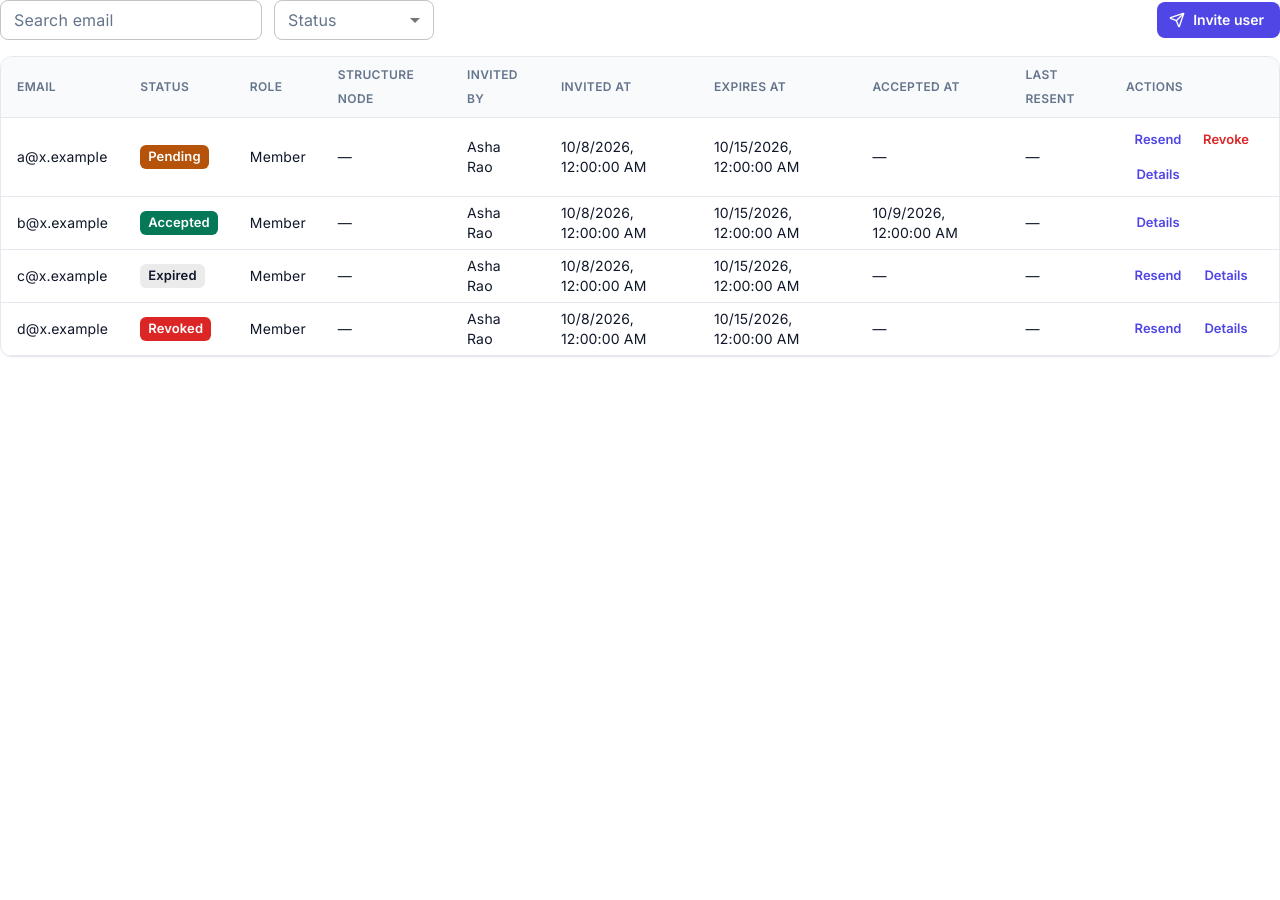
it: OrganizationInvitationsCard › sends an invitation with a role and a structure node
Click the button "Invite user" at (1219, 20), box [1157,2,1279,38]
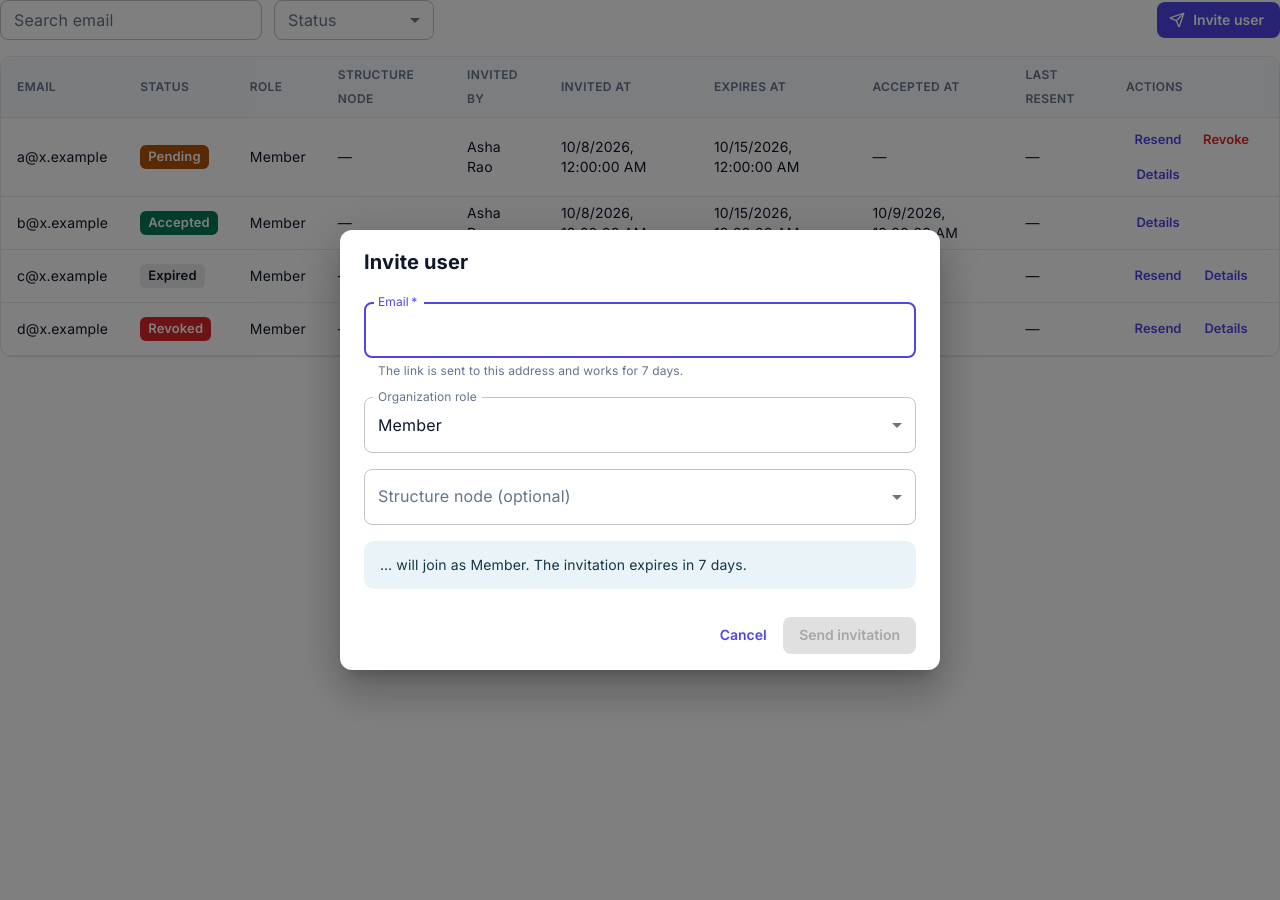
Type "new@x.example" into the field labelled "Email *" at (640, 330), box [364,302,916,358]
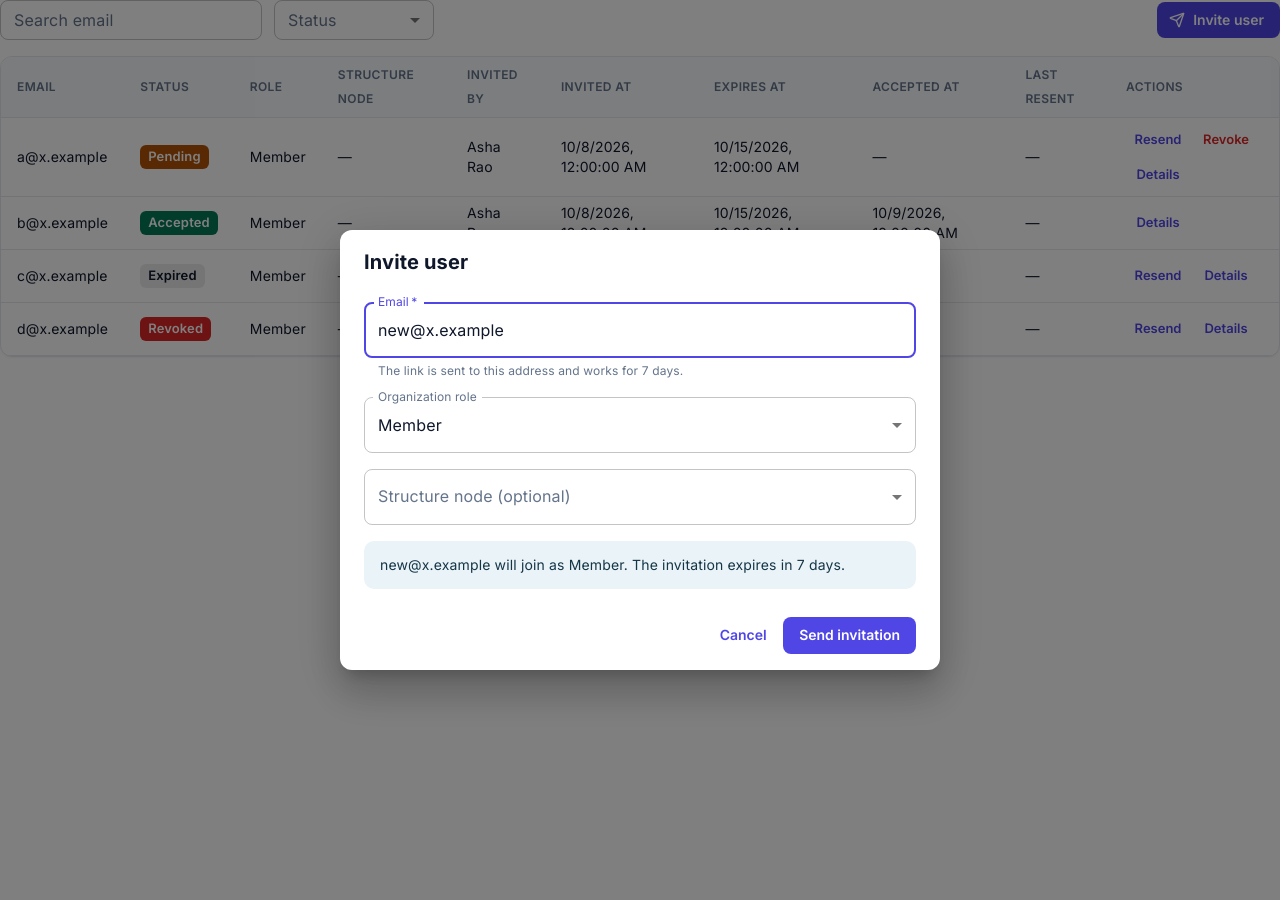
Click the dropdown named "Structure node" at (640, 497), box [364,469,916,525]
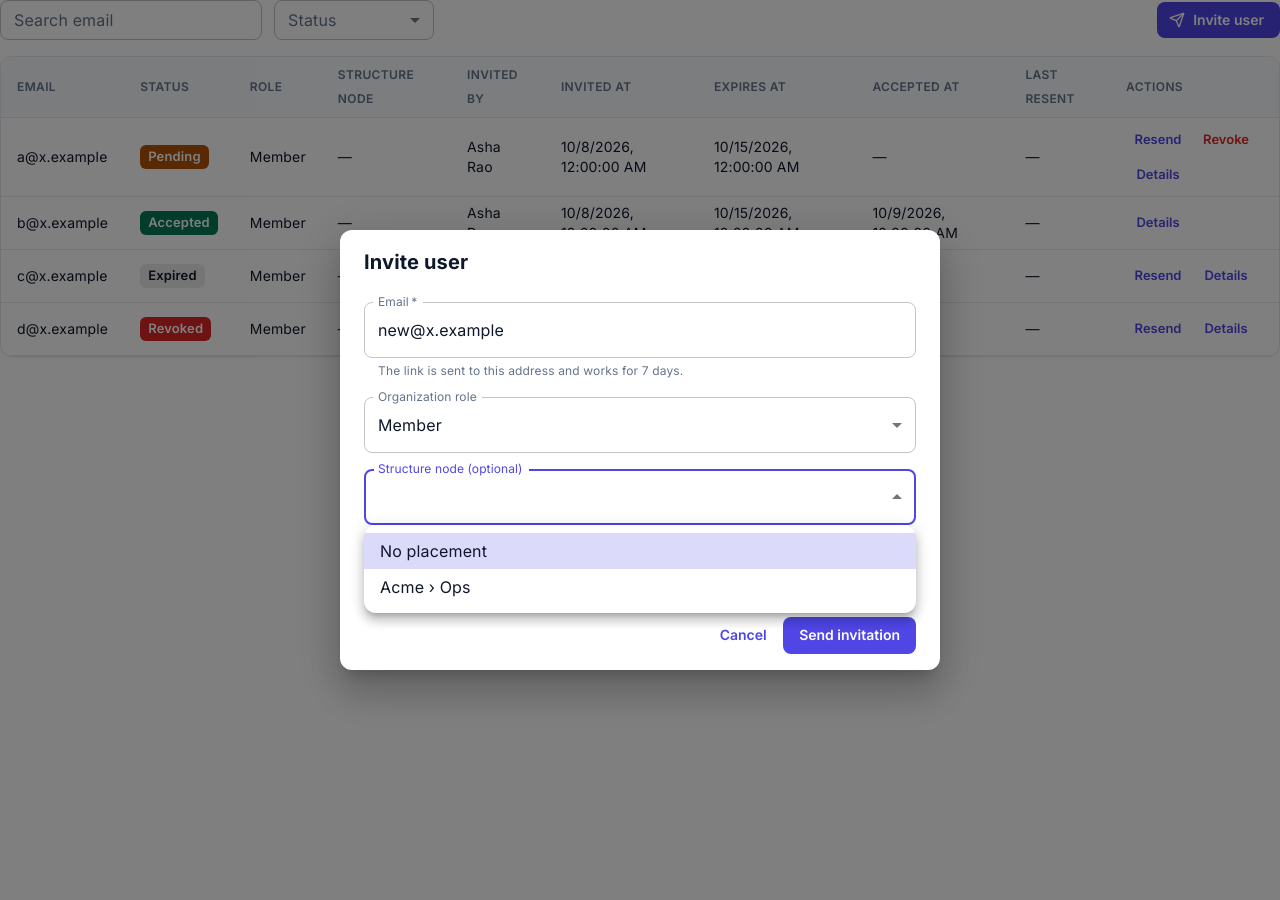
Click the option "Acme › Ops" at (425, 587), box [380,577,471,597]
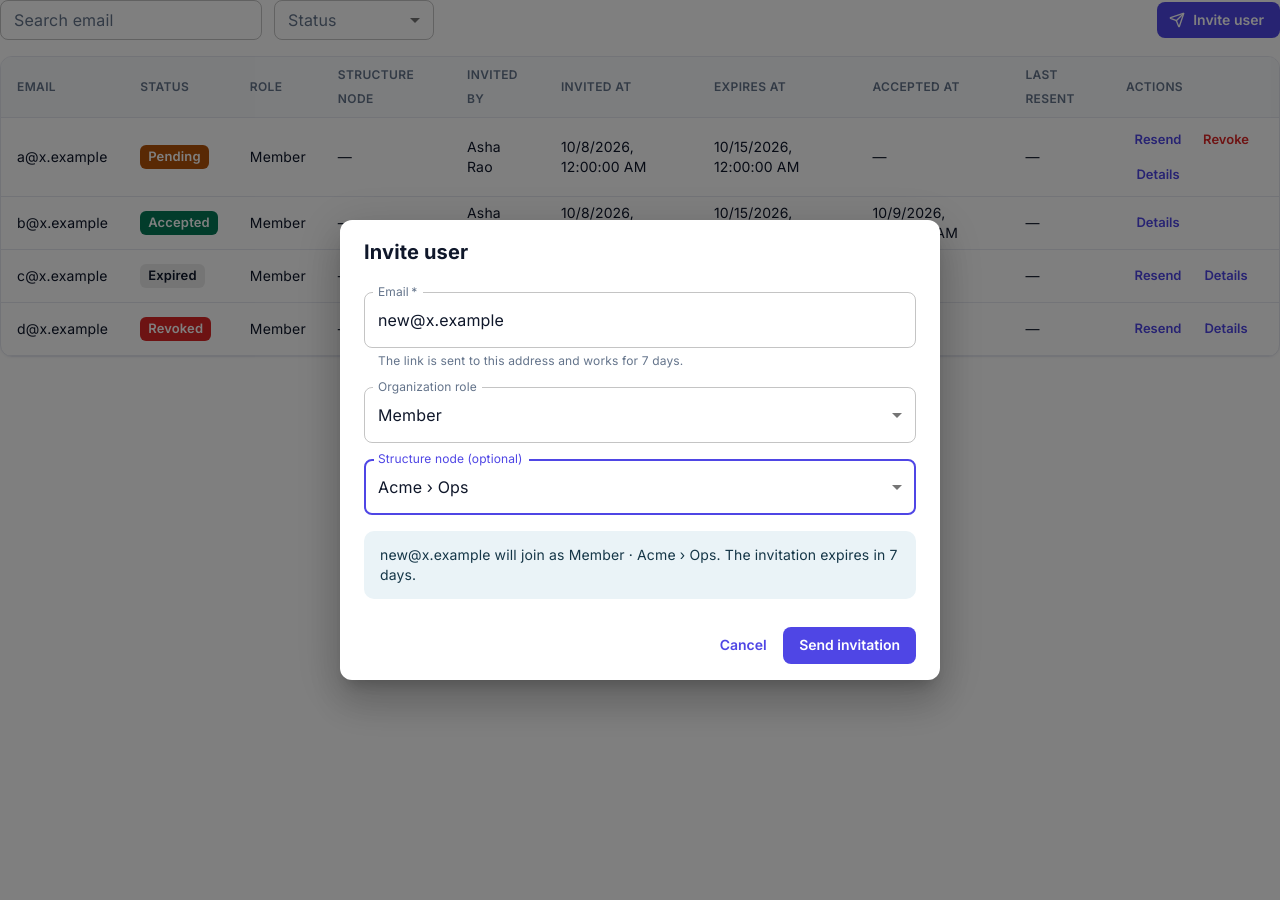
Click the button "Send invitation" at (850, 645), box [783,627,916,664]
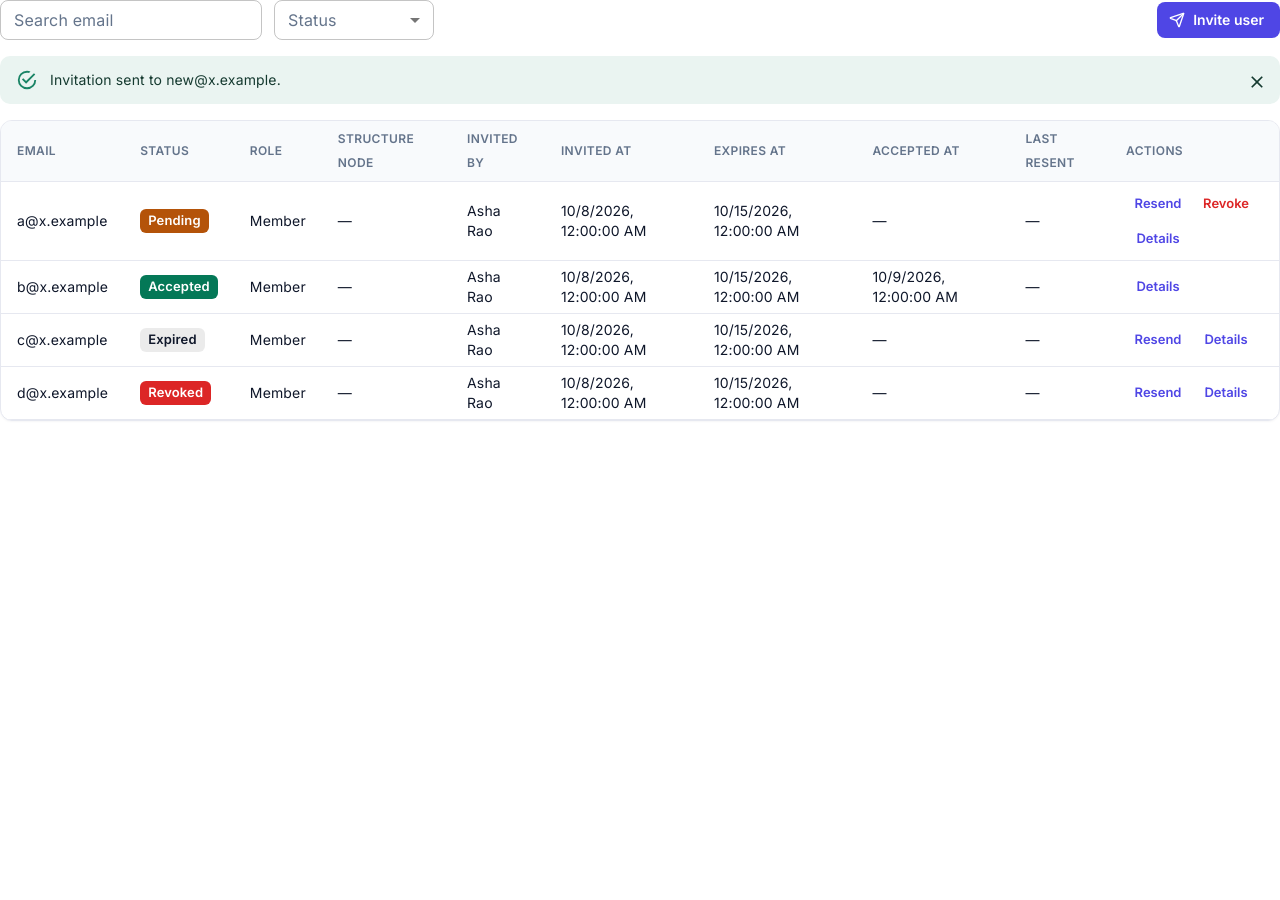
expect the text "Invitation sent to new@x.example." is shown: met, box [50,71,281,88]
